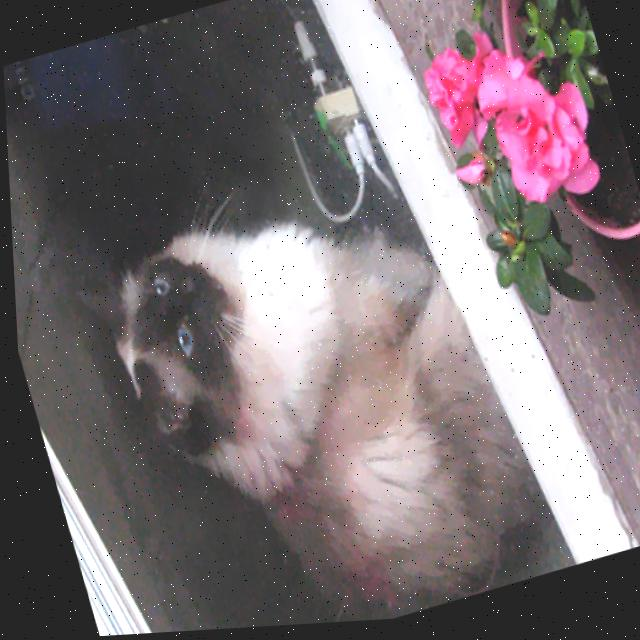Birman: (51, 147, 557, 638)
